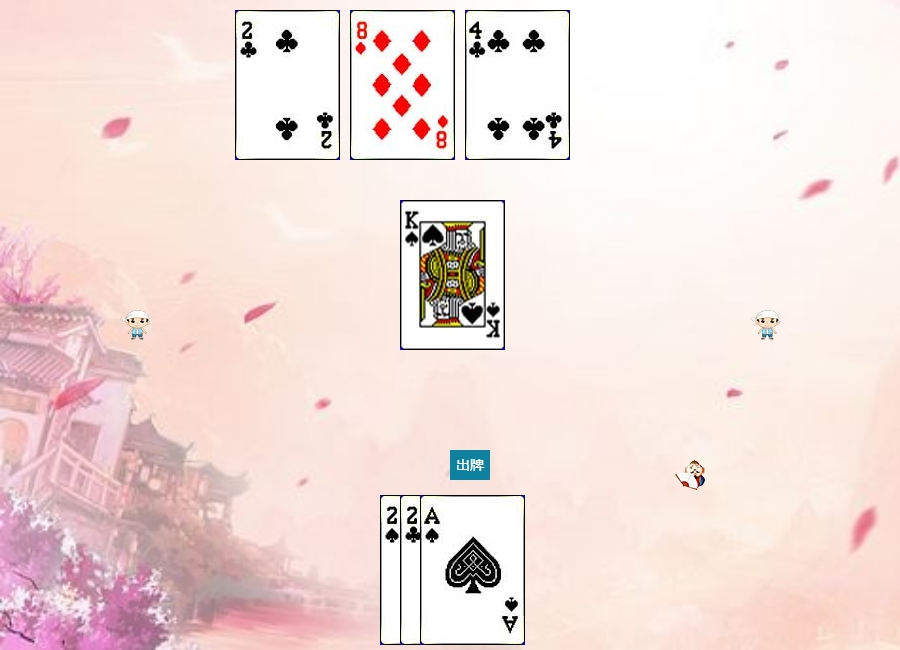13~4: (400, 200, 505, 350)
14~4: (420, 495, 525, 645)
15~2: (235, 10, 340, 160), (400, 495, 505, 645)
15~4: (380, 495, 485, 645)
4~2: (465, 10, 570, 160)
8~1: (350, 10, 455, 160)
